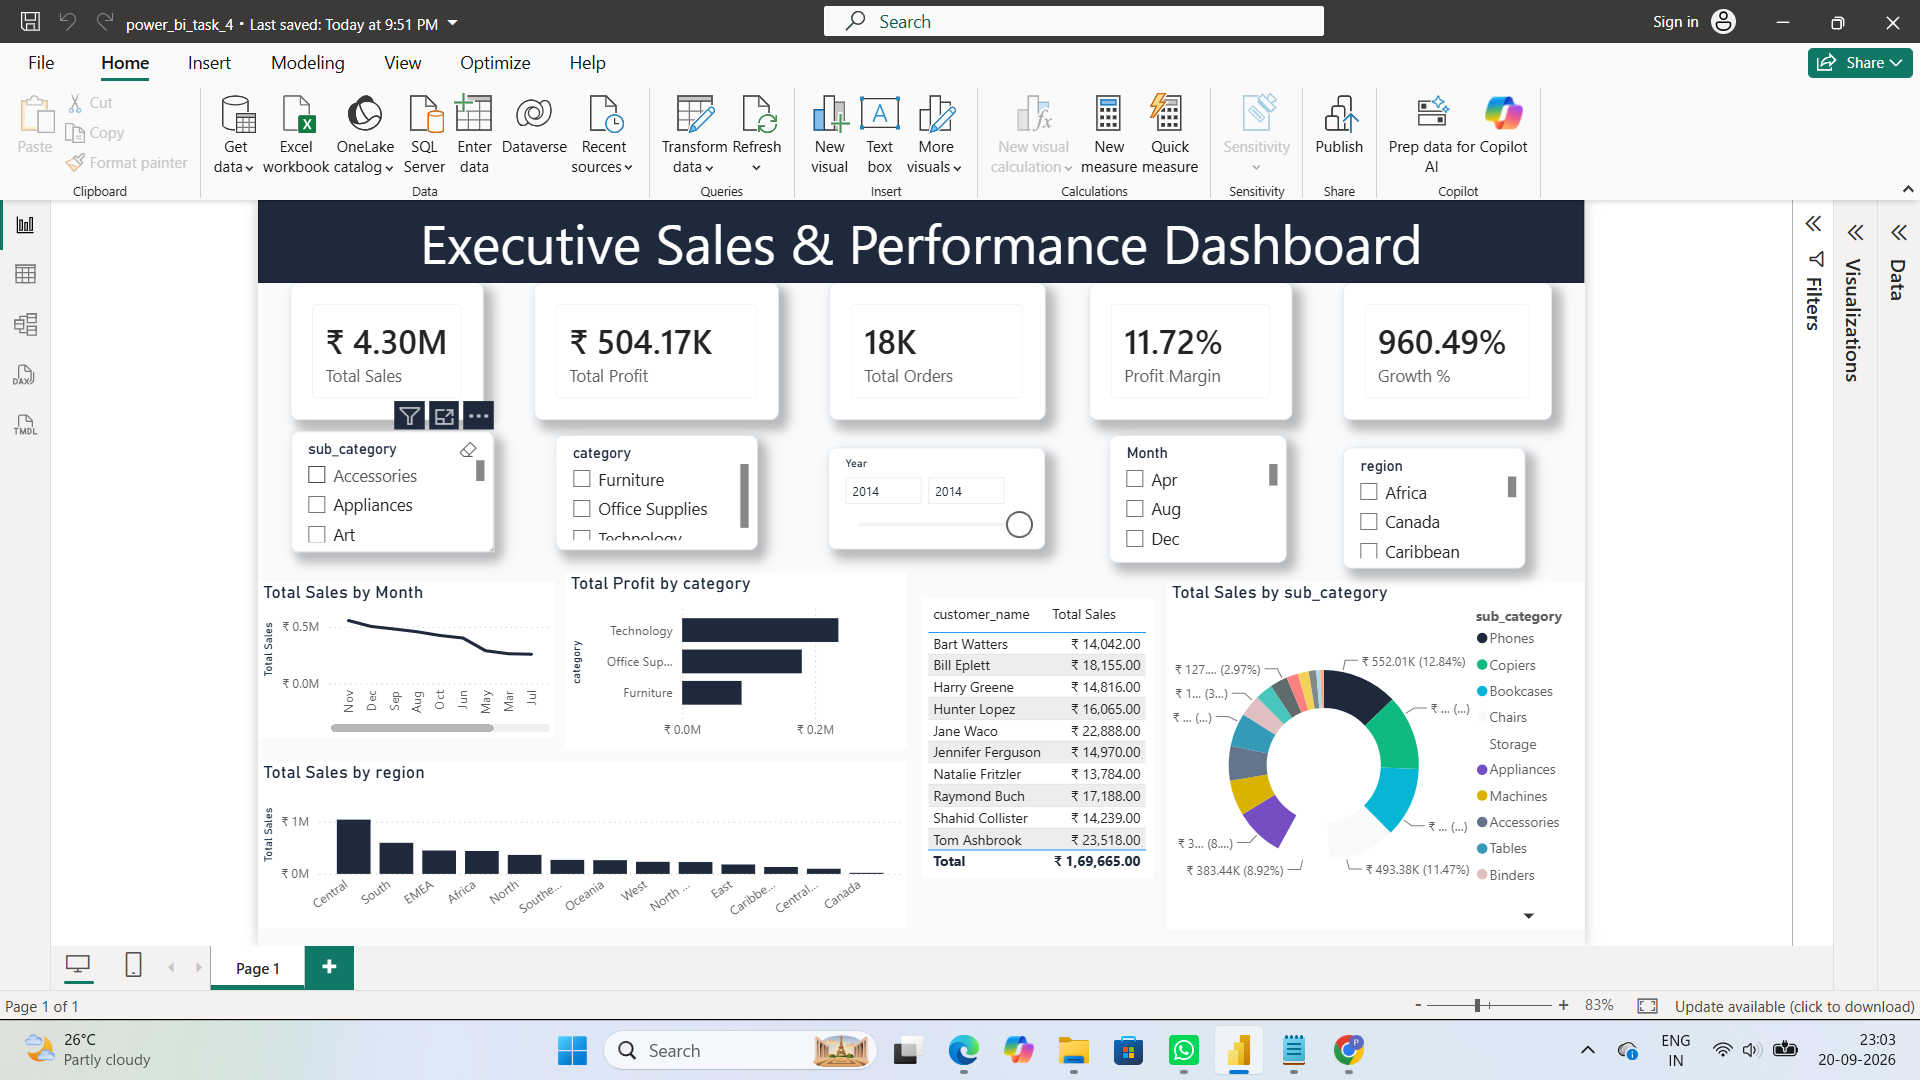

The dashboard page shown, as its layout file describes it:
{"tool":"powerbi","page":{"name":"Page 1","canvas":[1280,720],"ordinal":0},"visuals":[{"type":"cardVisual","fields":{"Data":["_Measures.Total Sales"]},"box":[31.6,79.6,186.6,133.1],"z":0},{"type":"cardVisual","fields":{"Data":["_Measures.Total Profit"]},"box":[266.2,79.6,236,133.1],"z":1000},{"type":"cardVisual","fields":{"Data":["_Measures.Total Orders"]},"box":[551.6,79.6,208.6,133.1],"z":2000},{"type":"cardVisual","fields":{"Data":["_Measures.Profit Margin"]},"box":[802.7,79.6,196.2,133.1],"z":3000},{"type":"cardVisual","fields":{"Data":["_Measures.Growth %"]},"box":[1047,79.6,201.7,133.1],"z":4000},{"type":"lineChart","fields":{"Category":["Calendar.Month"],"Y":["_Measures.Total Sales"]},"box":[0,367.8,286.8,150.9],"z":5000},{"type":"clusteredColumnChart","fields":{"Category":["Customers.region"],"Y":["_Measures.Total Sales"]},"box":[0,542,625.7,161.9],"z":6000},{"type":"clusteredBarChart","fields":{"Category":["products.category"],"Y":["_Measures.Total Profit"]},"box":[296.4,359.5,329.3,170.2],"z":7000},{"type":"tableEx","fields":{"Values":["Customers.customer_name","_Measures.Total Sales"]},"box":[640.8,384.2,223.7,270.3],"z":8000},{"type":"donutChart","fields":{"Category":["products.sub_category"],"Y":["_Measures.Total Sales"]},"box":[876.8,367.8,403.4,336.2],"z":9000},{"type":"slicer","fields":{"Values":["Calendar.Year"]},"box":[550.3,238.8,209.9,98.8],"z":10000},{"type":"slicer","fields":{"Values":["Calendar.Month"]},"box":[822,226.4,171.5,123.5],"z":11000},{"type":"slicer","fields":{"Values":["Customers.region"]},"box":[1047,238.8,175.6,116.6],"z":12000},{"type":"slicer","fields":{"Values":["products.category"]},"box":[286.8,226.4,194.9,111.1],"z":13000},{"type":"slicer","fields":{"Values":["products.sub_category"]},"box":[31.6,223.7,196.2,116.6],"z":14000},{"type":"shape","box":[0,0,1280.3,80],"z":15000}]}

Visuals, with their boxes on the page's 1280x720 design canvas (x1, y1, x2, y2). These are canvas units, not pixel positions in the 1920x1080 screenshot, which may show the page scaled, cropped or inside an application window:
cardVisual - _Measures.Total Sales: bbox=(32, 80, 218, 213)
cardVisual - _Measures.Total Profit: bbox=(266, 80, 502, 213)
cardVisual - _Measures.Total Orders: bbox=(552, 80, 760, 213)
cardVisual - _Measures.Profit Margin: bbox=(803, 80, 999, 213)
cardVisual - _Measures.Growth %: bbox=(1047, 80, 1249, 213)
lineChart - Calendar.Month x _Measures.Total Sales: bbox=(0, 368, 287, 519)
clusteredColumnChart - Customers.region x _Measures.Total Sales: bbox=(0, 542, 626, 704)
clusteredBarChart - products.category x _Measures.Total Profit: bbox=(296, 360, 626, 530)
tableEx - Customers.customer_name x _Measures.Total Sales: bbox=(641, 384, 864, 654)
donutChart - products.sub_category x _Measures.Total Sales: bbox=(877, 368, 1280, 704)
slicer - Calendar.Year: bbox=(550, 239, 760, 338)
slicer - Calendar.Month: bbox=(822, 226, 994, 350)
slicer - Customers.region: bbox=(1047, 239, 1223, 355)
slicer - products.category: bbox=(287, 226, 482, 338)
slicer - products.sub_category: bbox=(32, 224, 228, 340)
shape: bbox=(0, 0, 1280, 80)
